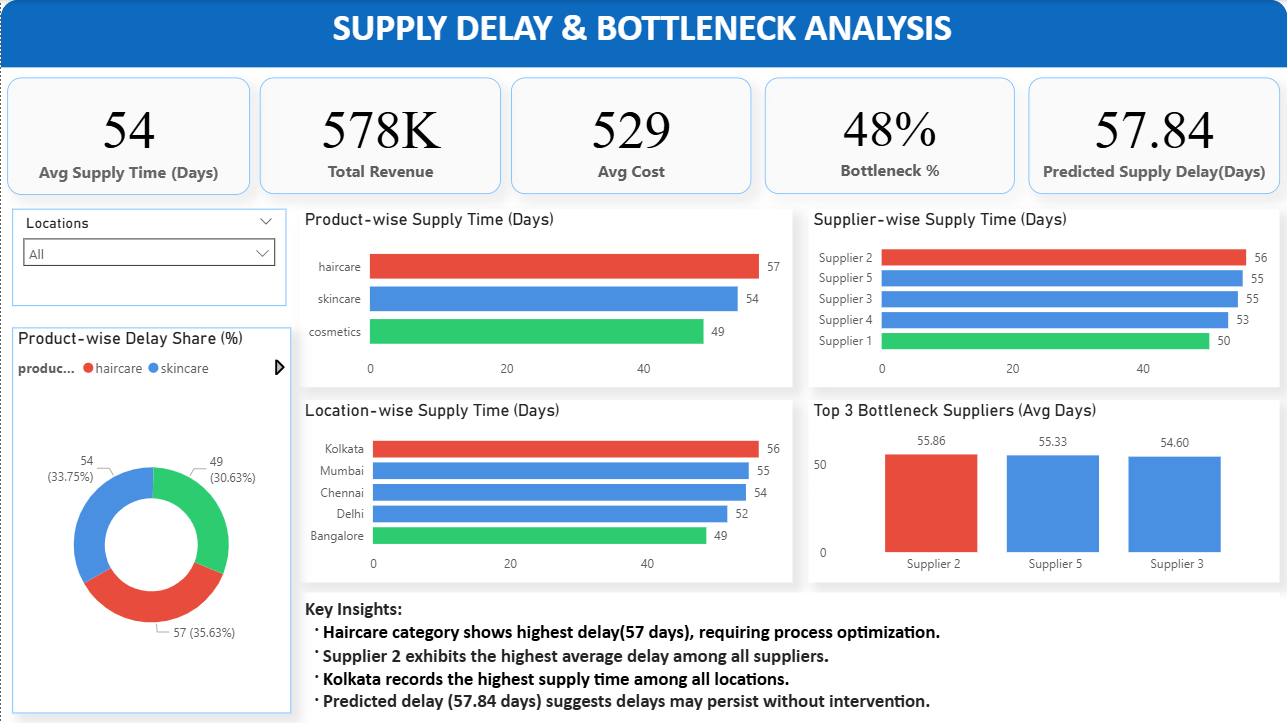

Layout of this report page (visuals, bound fields, positions):
{"tool":"powerbi","page":{"name":"Page 1","canvas":[1280,720],"ordinal":0},"visuals":[{"type":"shape","box":[0,0,1280,67.2],"z":0},{"type":"card","title":"Avg  Supply Time (Days)","fields":{"Values":["Sheet1.Avg_Supply_Time1"]},"box":[6.2,77.1,241.3,116.9],"z":1000},{"type":"card","title":"Total Revenue","fields":{"Values":["Sheet1.Total_Revenue"]},"box":[257.5,77.1,240.1,115.7],"z":2000},{"type":"card","title":"Avg  Supply Time (Days)","fields":{"Values":["Sheet1.Avg_Cost"]},"box":[507.5,77.1,238.8,115.7],"z":3000},{"type":"card","title":"Avg  Supply Time (Days)","fields":{"Values":["Sheet1.Bottleneck_Percent"]},"box":[760.1,77.1,248.8,115.7],"z":4000},{"type":"textbox","box":[301,0,674.2,63.4],"z":5000},{"type":"clusteredBarChart","title":"Product-wise Supply Time (Days)","fields":{"Category":["Sheet1.product_type"],"Y":["Avg(Sheet1.total_supply_time)"]},"box":[297.3,207.7,490.1,177.9],"z":6000},{"type":"slicer","fields":{"Values":["Sheet1.location"]},"box":[11.2,207.7,272.4,97],"z":7000},{"type":"clusteredBarChart","title":"Supplier-wise Supply Time (Days)","fields":{"Category":["Sheet1.supplier_name"],"Y":["Avg(Sheet1.total_supply_time)"]},"box":[803.6,207.7,469,177.9],"z":8000},{"type":"clusteredBarChart","title":"Location-wise Supply Time (Days)","fields":{"Category":["Sheet1.location"],"Y":["Avg(Sheet1.total_supply_time)"]},"box":[297.3,398.1,490.1,181.6],"z":9000},{"type":"columnChart","title":"Top 3 Bottleneck Suppliers (Avg Days)","fields":{"Category":["Sheet1.supplier_name"],"Y":["Avg(Sheet1.total_supply_time)"]},"box":[803.6,398.1,469,181.6],"z":10000},{"type":"textbox","box":[297.3,589.6,975.3,130.6],"z":11000},{"type":"card","title":"Avg  Supply Time (Days)","fields":{"Values":["Sheet1.Predicted_Supply_Time"]},"box":[1022.5,77.1,250,115.7],"z":12000},{"type":"donutChart","title":"Product-wise Delay Share (%)","fields":{"Category":["Sheet1.product_type"],"Y":["Sheet1.Avg_Supply_Time1"]},"box":[6.2,323.4,282.4,379.4],"z":13000}]}

Visuals, with their boxes in screenshot pixels (x1, y1, x2, y2), scaled from the page's 1280x720 canvas onto the 1287x723 screenshot:
shape: bbox(0, 0, 1286, 67)
"Avg  Supply Time (Days)" card: bbox(6, 77, 249, 195)
"Total Revenue" card: bbox(259, 77, 500, 194)
"Avg  Supply Time (Days)" card: bbox(510, 77, 750, 194)
"Avg  Supply Time (Days)" card: bbox(764, 77, 1014, 194)
textbox: bbox(303, 0, 981, 64)
"Product-wise Supply Time (Days)" clusteredBarChart: bbox(299, 209, 792, 387)
slicer - Sheet1.location: bbox(11, 209, 285, 306)
"Supplier-wise Supply Time (Days)" clusteredBarChart: bbox(808, 209, 1280, 387)
"Location-wise Supply Time (Days)" clusteredBarChart: bbox(299, 400, 792, 582)
"Top 3 Bottleneck Suppliers (Avg Days)" columnChart: bbox(808, 400, 1280, 582)
textbox: bbox(299, 592, 1280, 722)
"Avg  Supply Time (Days)" card: bbox(1028, 77, 1279, 194)
"Product-wise Delay Share (%)" donutChart: bbox(6, 325, 290, 706)
